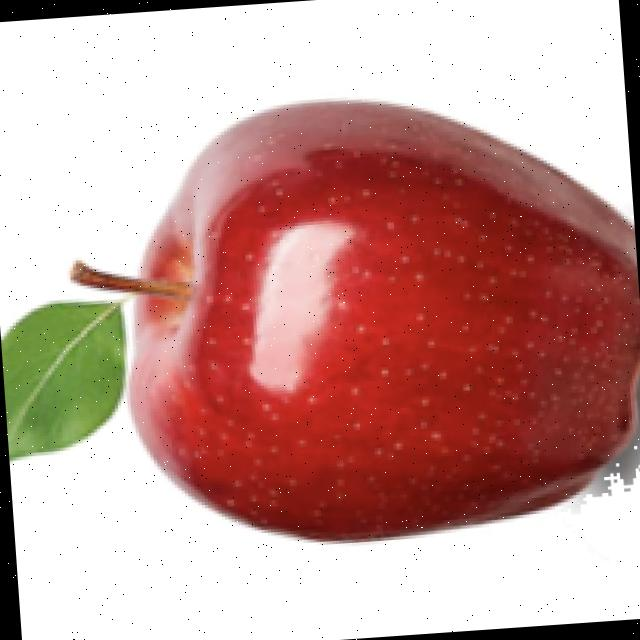apple: (0, 93, 640, 547)
